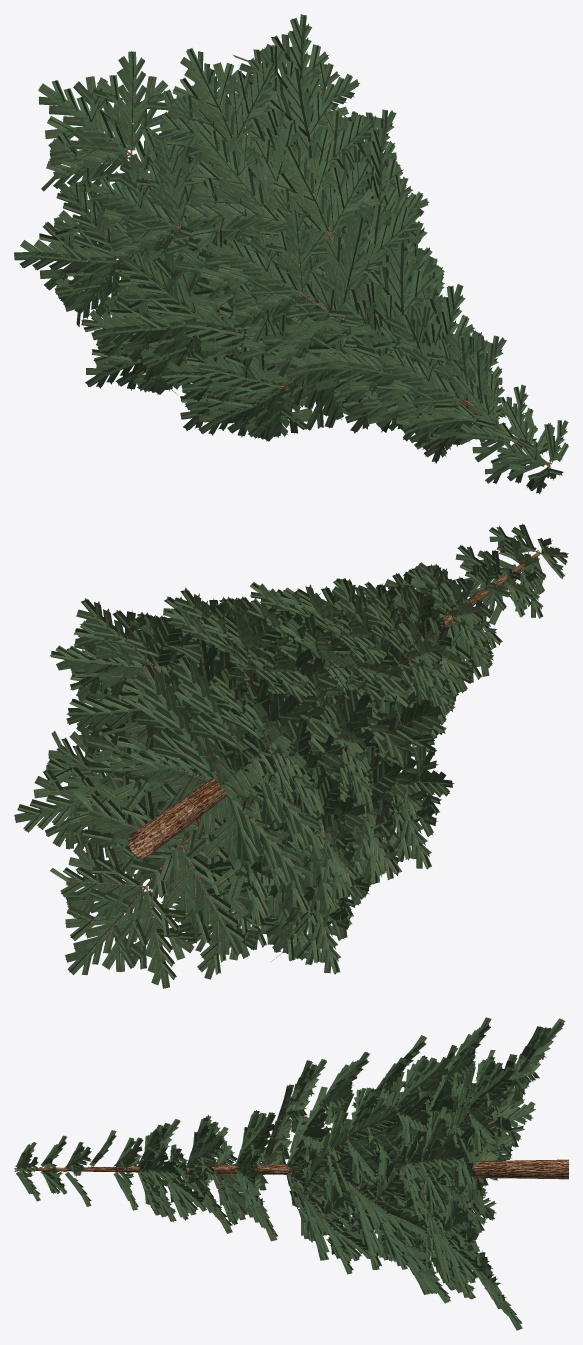
Rendered from Tree3.dae.
3 renders of one model, top to bottom at view 1: azimuth 30°, elevation 25°; view 2: azimuth 150°, elevation 25°; view 3: azimuth 270°, elevation 25°, orthographic. The views are drawn at different scales.
Parts seen in each view (by area): view 1: node; view 2: node; view 3: node.
Boxes of the visible parts, bbox=[...] form: node: bbox=[14, 14, 568, 494]; node: bbox=[14, 523, 568, 988]; node: bbox=[14, 1017, 568, 1330].
Size of the model in its own units: 3.71 by 3.6 by 6.74.
Materials: 3 (3 with a texture image).
